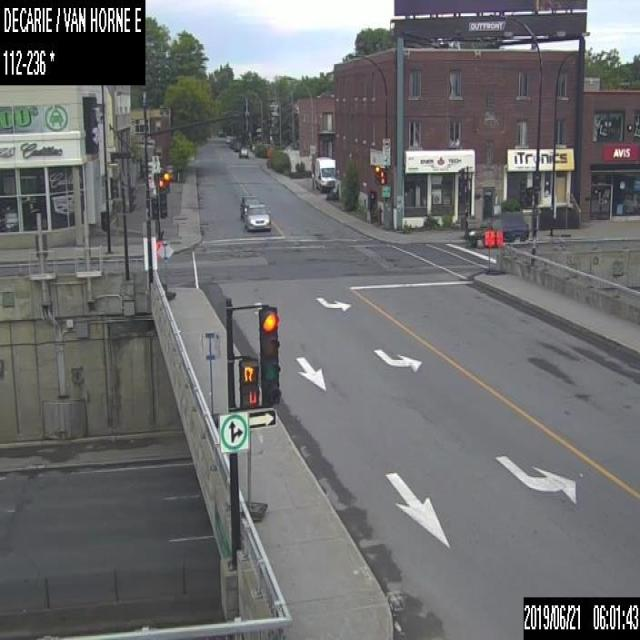construction: (244, 427, 267, 520), (201, 329, 222, 427), (157, 237, 175, 299), (482, 228, 492, 274), (494, 228, 504, 274)
vehicle: (467, 210, 528, 246), (314, 156, 335, 192), (243, 202, 269, 231), (239, 194, 262, 220), (238, 145, 247, 156), (234, 138, 242, 150), (228, 137, 234, 148), (224, 134, 232, 142)
